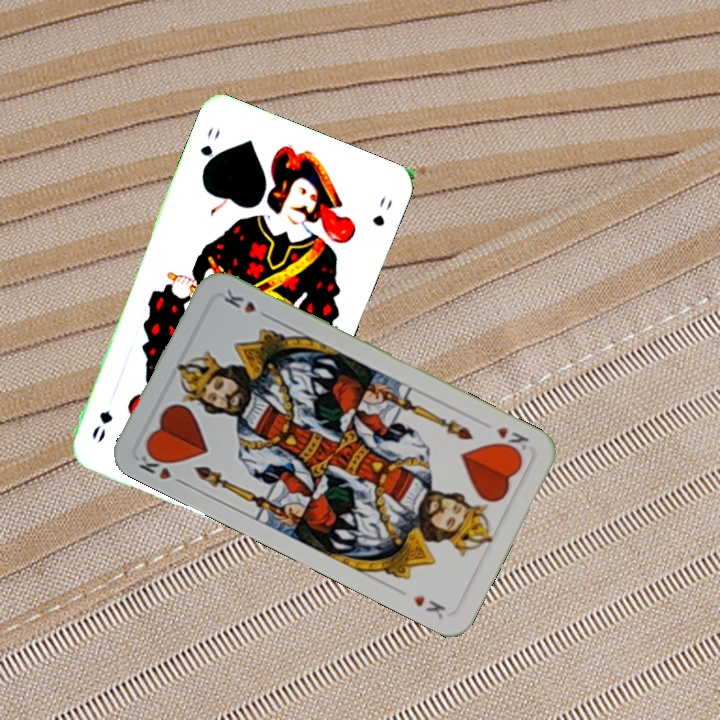GO: (196, 124, 223, 176)
HK: (134, 445, 189, 488), (492, 422, 532, 457)
